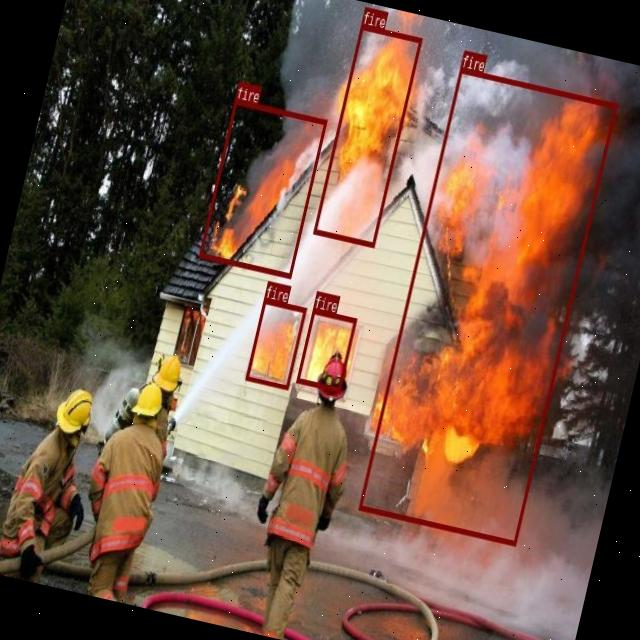fire: (358, 66, 616, 544), (313, 23, 422, 246), (198, 98, 326, 277), (245, 296, 306, 388), (294, 308, 356, 391)
